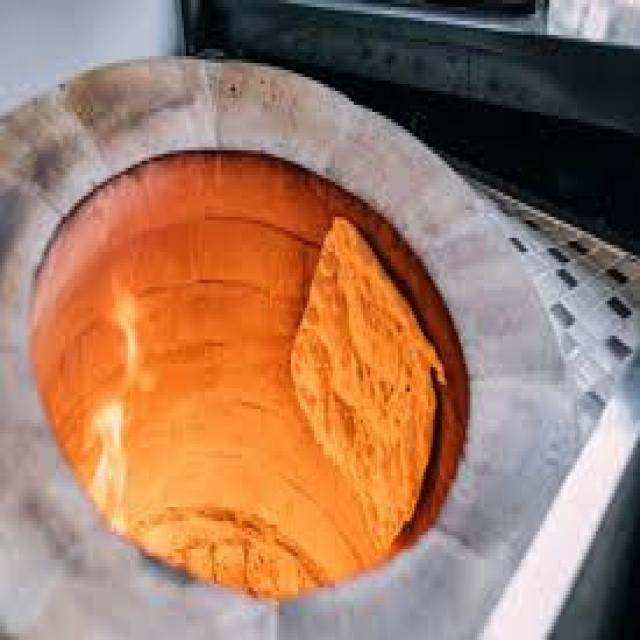fire: (92, 401, 126, 531), (109, 281, 137, 371)
